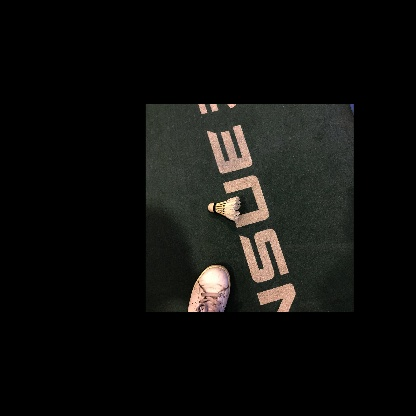ball_single: (208, 197, 241, 222)
